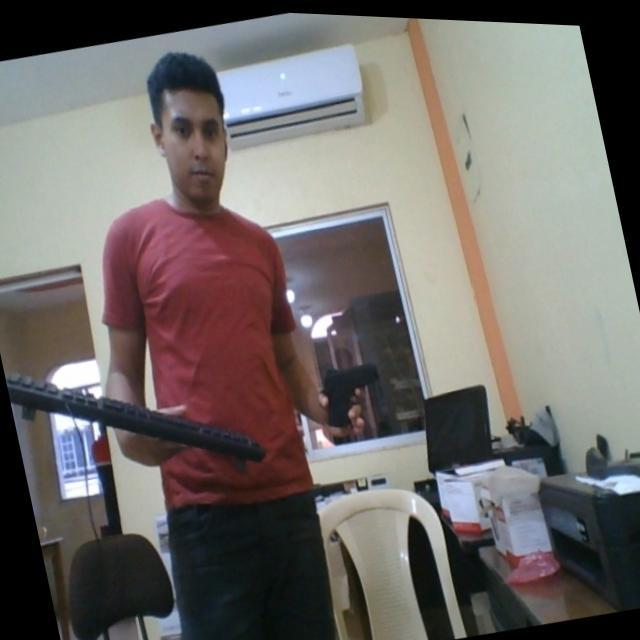weapon: (310, 348, 388, 434)
